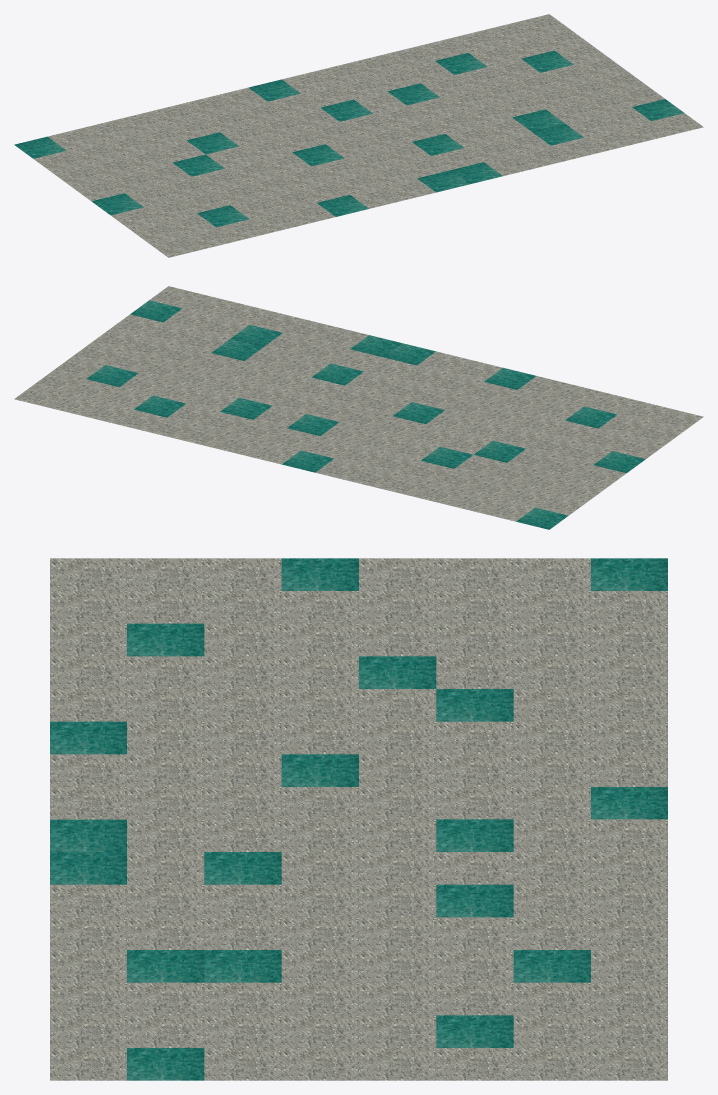
The model's file is aula flipeada ....-.fbx.
The picture shows the model from 3 angles, top to bottom: view 1: azimuth 30°, elevation 25°; view 2: azimuth 150°, elevation 25°; view 3: azimuth 270°, elevation 25°; orthographic projection. The views are drawn at different scales.
Visible parts, largest first — view 1: Plane.001; view 2: Plane.001; view 3: Plane.001.
Part boxes in pixels (bbox=[...]): Plane.001: bbox=[14, 14, 703, 257]; Plane.001: bbox=[14, 286, 703, 529]; Plane.001: bbox=[50, 558, 667, 1080].
Bounding box in the file's own units: 3200 × 0.000451 × 1600.
Materials: 2 (2 with a texture image).
